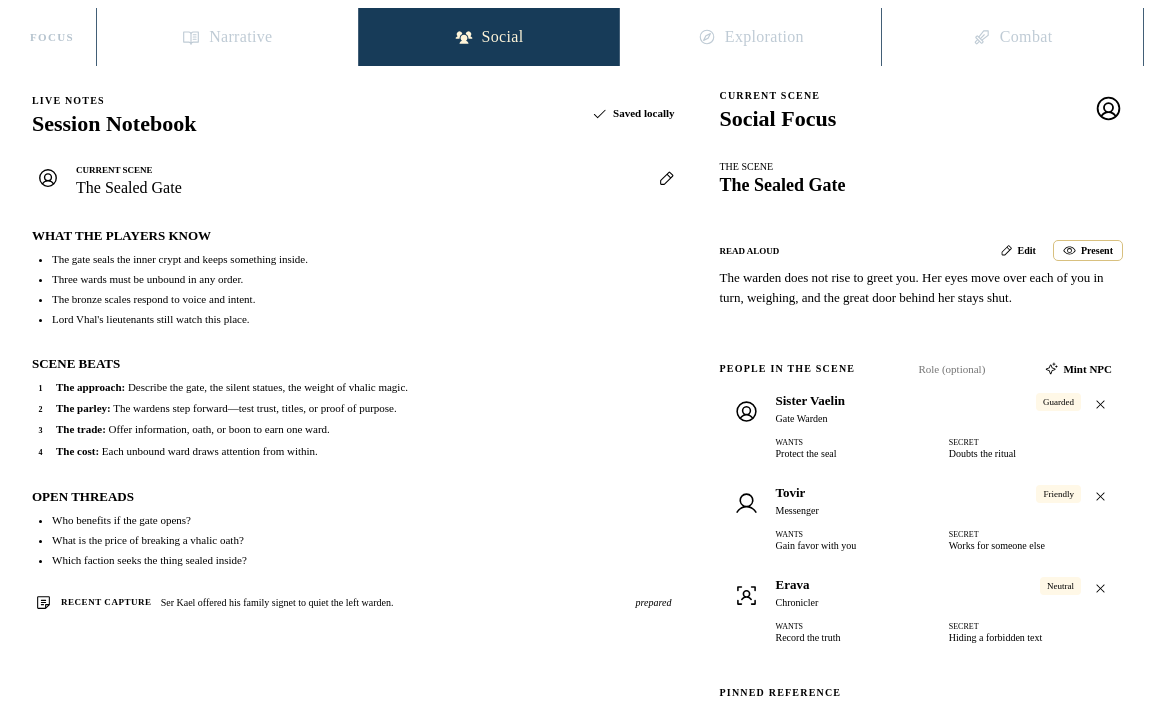
Test: RunWorkspace › re-rolls an improvised NPC identity in place while keeping its role
This screenshot has width=1152, height=708.
Type "Smuggler" into the field named "Role for a new NPC" at (969, 369), box [910,358,1028,380]
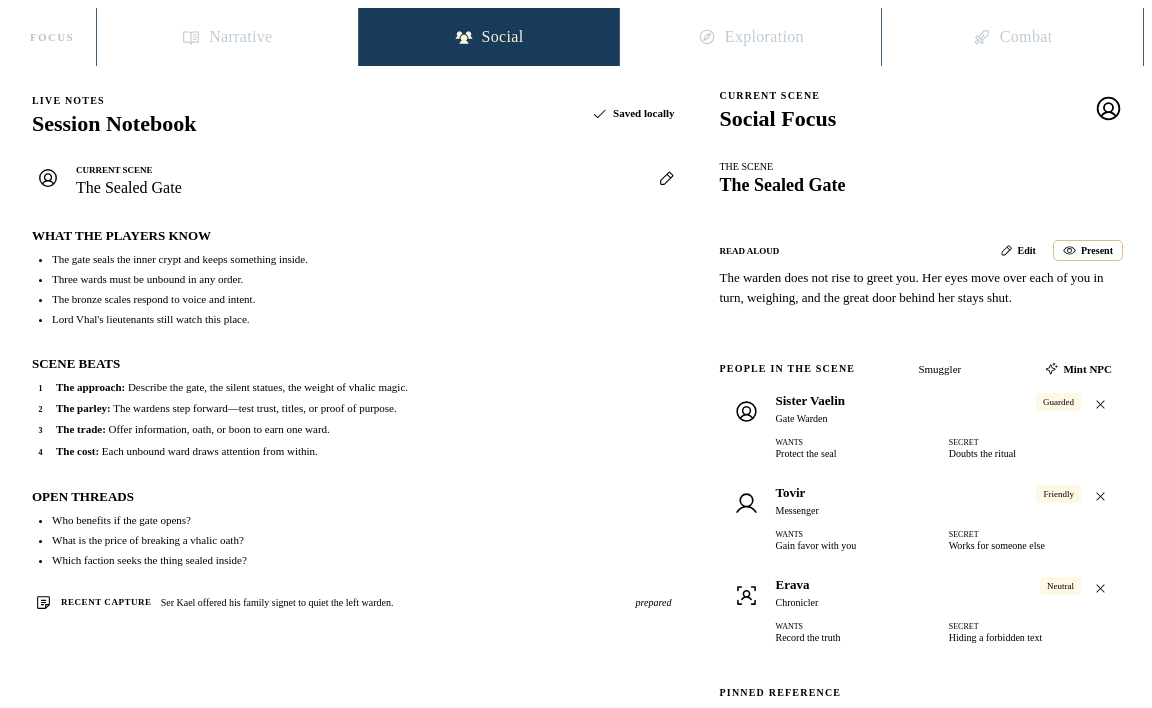
Click the button "Mint NPC" at (1079, 369), box [1034,354,1123,384]
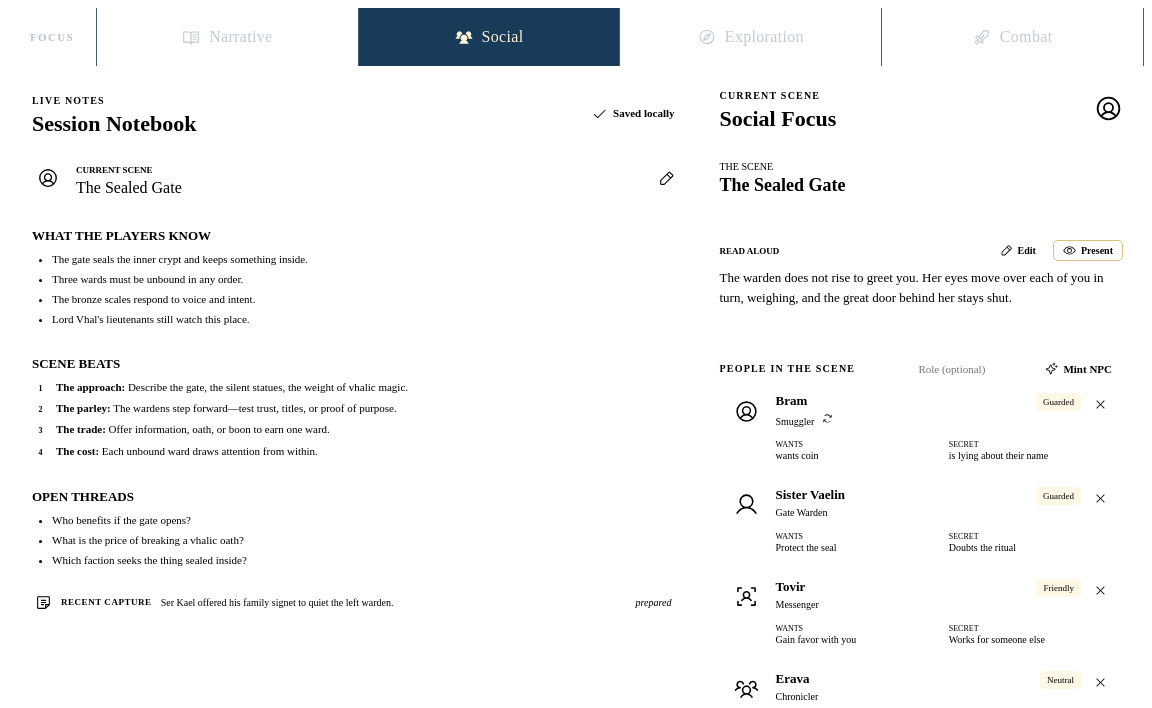
Now the heading "Bram" is shown, box [776,393,807,408]
Click the button named "Re-roll Bram" at (828, 421), box [820,411,835,431]
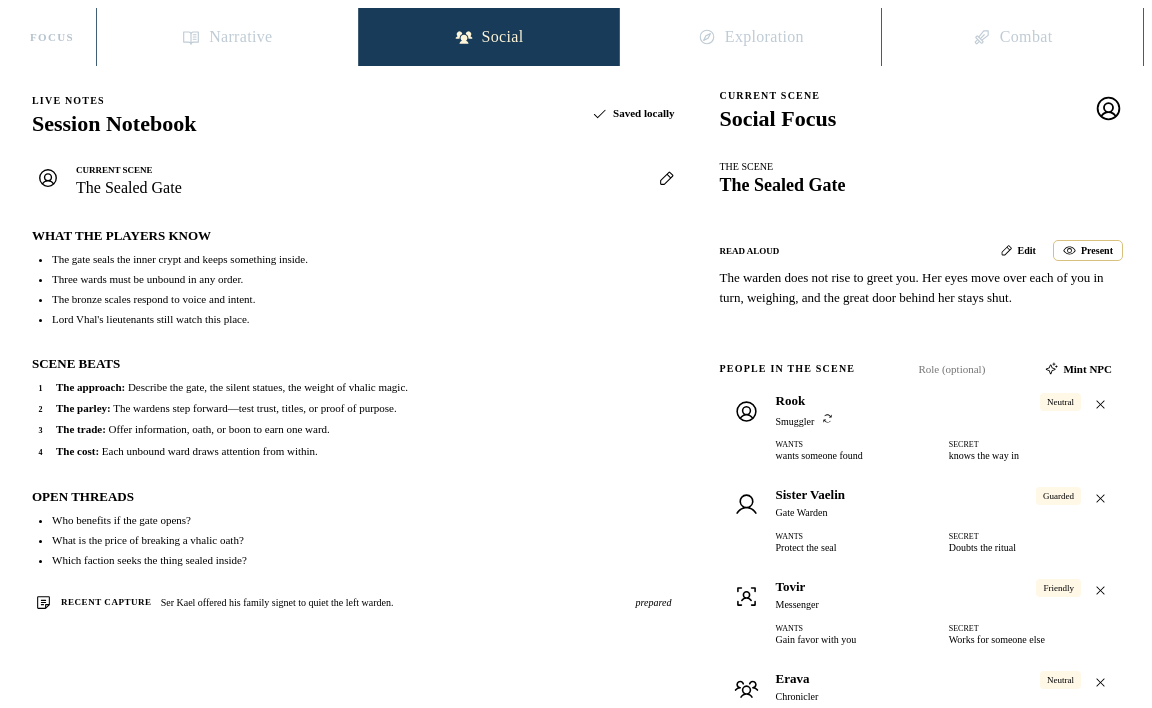
Now the element showing "Smuggler" is shown, box [776,411,835,431]
Now the number of buttons named "Re-roll" is 1, box [820,411,835,431]
Now the heading "Rook" is shown, box [776,393,805,408]
